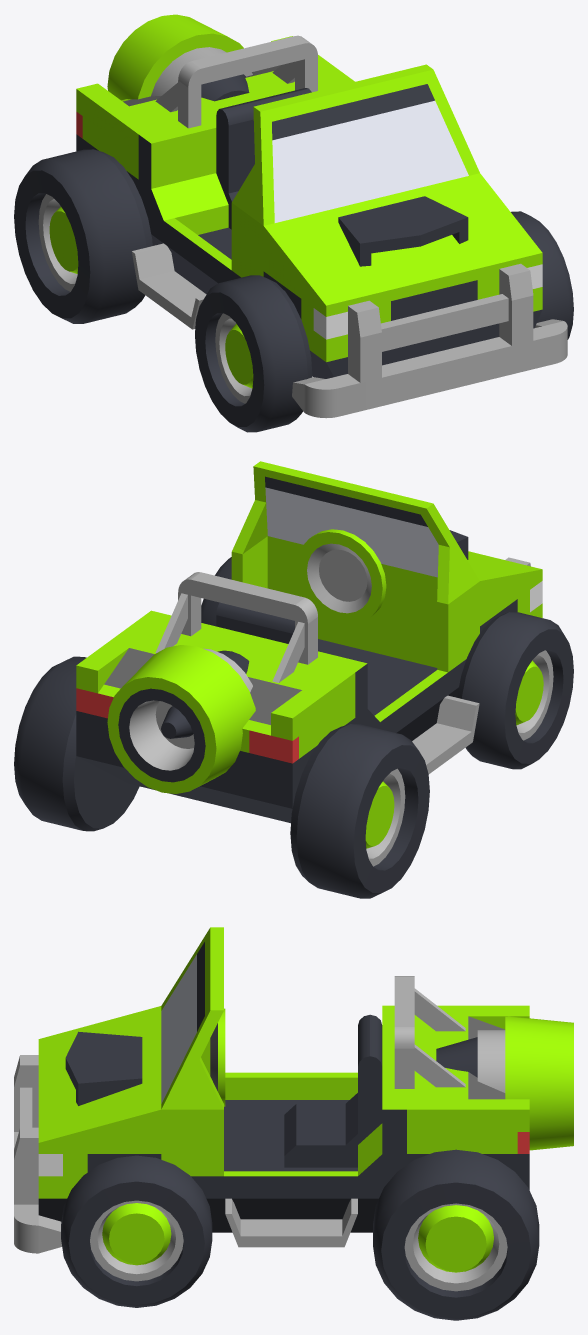
Rendered from FBX_Car_BoostBuggyNeonGreen.fbx.
The picture shows the model from 3 angles, top to bottom: view 1: azimuth 30°, elevation 25°; view 2: azimuth 150°, elevation 25°; view 3: azimuth 270°, elevation 25°; orthographic projection.
Parts seen in each view (by area): view 1: wheel_classic (×3), body_frontTruckShort, body_topWindshield, bumper_large, body_suv, body_backFins, engine_round, detail_rollbar, detail_engine, detail_seat, detail_rail%; view 2: wheel_classic (×4), body_backFins, body_suv, engine_round, body_topWindshield, detail_light, detail_rollbar, body_frontTruckShort, detail_rail%, detail_seat; view 3: wheel_classic (×2), body_suv, body_frontTruckShort, body_backFins, engine_round, body_topWindshield, detail_seat, bumper_large, detail_engine, detail_rollbar, detail_rail%, detail_light.
Boxes of the visible parts, box(x1,y1,x2,y2) form: wheel_classic (×3): box(14, 149, 573, 432); body_frontTruckShort: box(263, 173, 542, 378); body_topWindshield: box(232, 64, 479, 225); bumper_large: box(292, 263, 567, 418); body_suv: box(138, 82, 353, 294); body_backFins: box(76, 36, 354, 191); engine_round: box(107, 14, 252, 101); detail_rollbar: box(155, 35, 317, 128); detail_engine: box(338, 196, 468, 266); detail_seat: box(216, 88, 311, 229); detail_rail%: box(131, 243, 206, 329); wheel_classic (×4): box(14, 557, 573, 898); body_backFins: box(76, 620, 355, 823); body_suv: box(139, 536, 479, 740); engine_round: box(107, 645, 255, 793); body_topWindshield: box(232, 461, 479, 604); detail_light: box(296, 529, 386, 624); detail_rollbar: box(155, 572, 317, 682); body_frontTruckShort: box(467, 551, 542, 632); detail_rail%: box(412, 695, 479, 774); detail_seat: box(216, 602, 294, 643); wheel_classic (×2): box(61, 1149, 539, 1320); body_suv: box(161, 1005, 406, 1232); body_frontTruckShort: box(38, 1006, 161, 1221); body_backFins: box(407, 1005, 529, 1189); engine_round: box(436, 1016, 573, 1150); body_topWindshield: box(161, 927, 223, 1109); detail_seat: box(284, 1014, 382, 1167); bumper_large: box(14, 1055, 62, 1253); detail_engine: box(65, 1031, 142, 1105); detail_rollbar: box(394, 976, 465, 1088); detail_rail%: box(225, 1198, 357, 1247); detail_light: box(210, 1008, 225, 1106).
Size of the model in its own units: 15.71 by 12.39 by 22.8.
